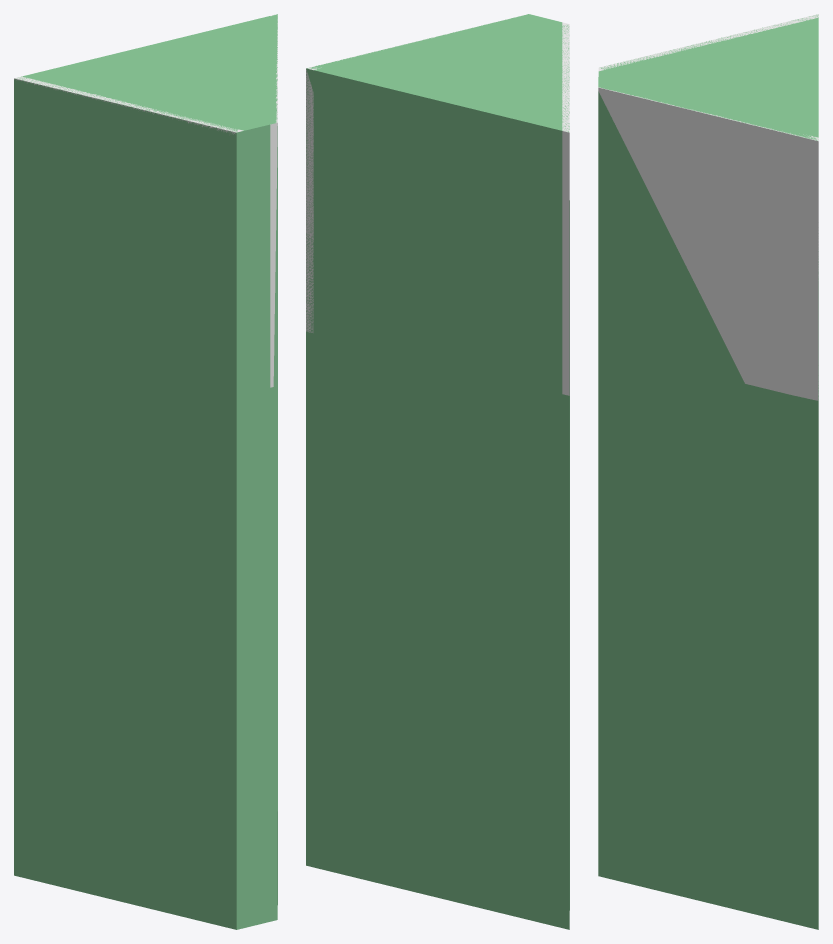
File: ut_roadsign_turn_warn.dae
3 renders of one model, left to right at view 1: azimuth 30°, elevation 25°; view 2: azimuth 150°, elevation 25°; view 3: azimuth 270°, elevation 25°, orthographic.
Parts seen in each view (by area): view 1: Colmesh-1, ind_bld_a800; view 2: Colmesh-1, ind_bld_a800; view 3: Colmesh-1, ind_bld_a800.
Part boxes in pixels (x1,y1,x2,y2): Colmesh-1: (14,14,277,929); ind_bld_a800: (14,14,277,387); Colmesh-1: (306,14,569,929); ind_bld_a800: (306,14,569,395); Colmesh-1: (598,14,818,929); ind_bld_a800: (598,14,818,400).
Size of the model in its own units: 1.04 by 0.7595 by 3.
